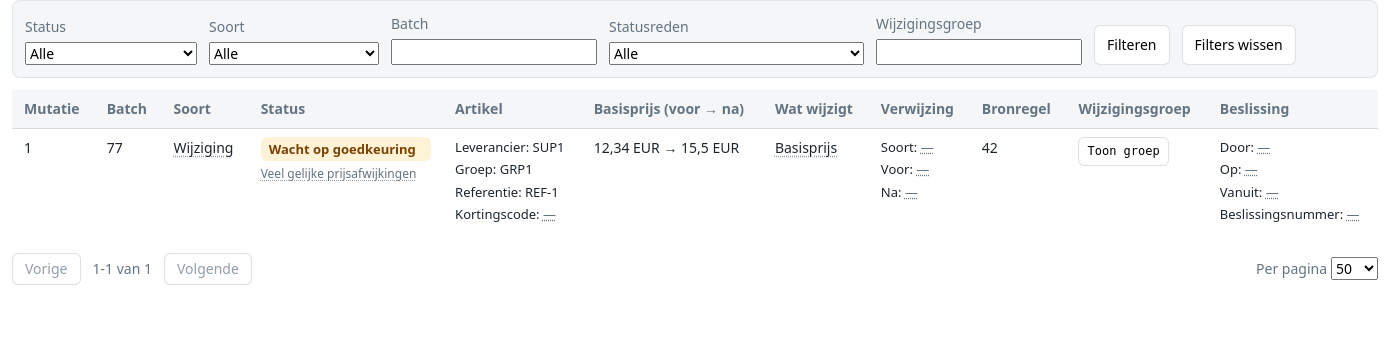
MutationList › T5.8: klikken op de identityHash zet het identityHash-filter (serverzijdige wijzigingsgroep)
Click the button "Toon groep": (1124, 151) [1078,137,1169,166]
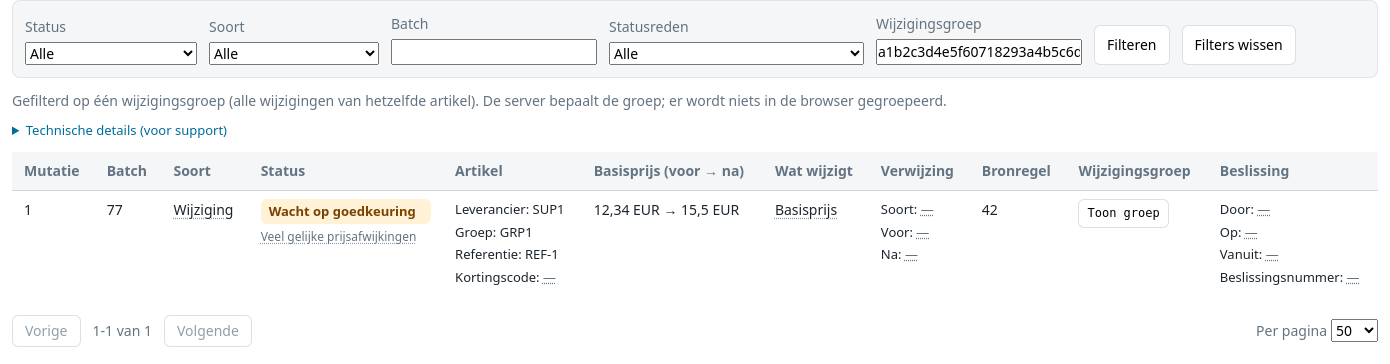
Expected: the text "De server bepaalt de groep" is shown, [12,91,947,110]
Expected: the field labelled "Wijzigingsgroep" holds "a1b2c3d4e5f60718293a4b5c6d7e8f90a1b2c3d4e5f60718293a4b5c6d7e8f90", [876,39,1082,65]
